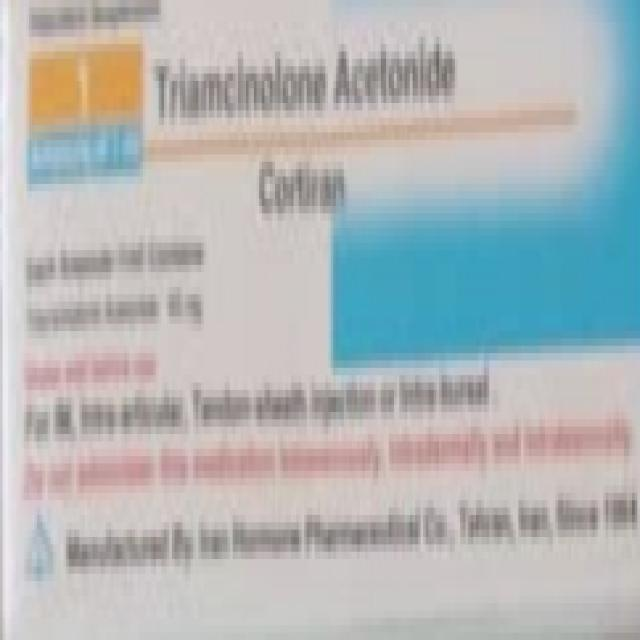drug-name: (152, 32, 460, 126)
